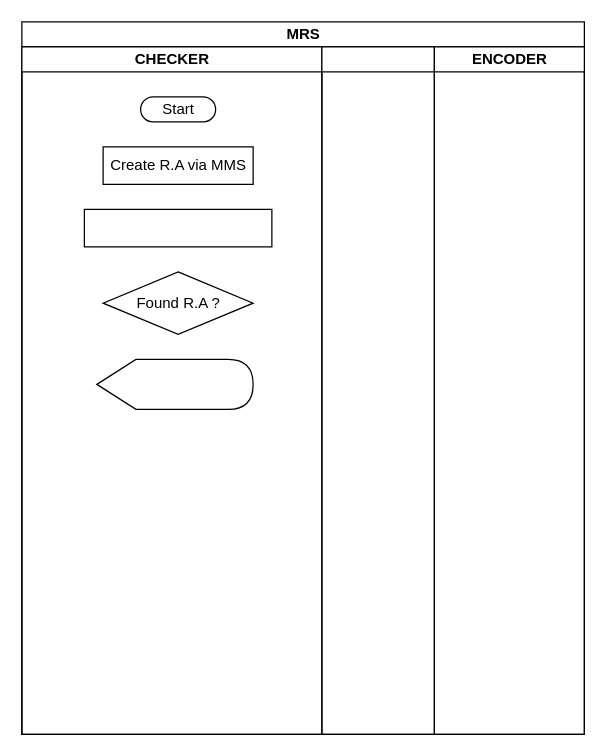
Some shapes in this 606 by 756 pixel diagram are drawn without their labels. The shapes that lost their labels are listed below. From the top down, each one's centre as x and y in pixels, then its label:
(x=177, y=227): Scan P.O. # via QR Code
(x=174, y=383): View P.O. Details
(x=377, y=390): SUPERVISOR
